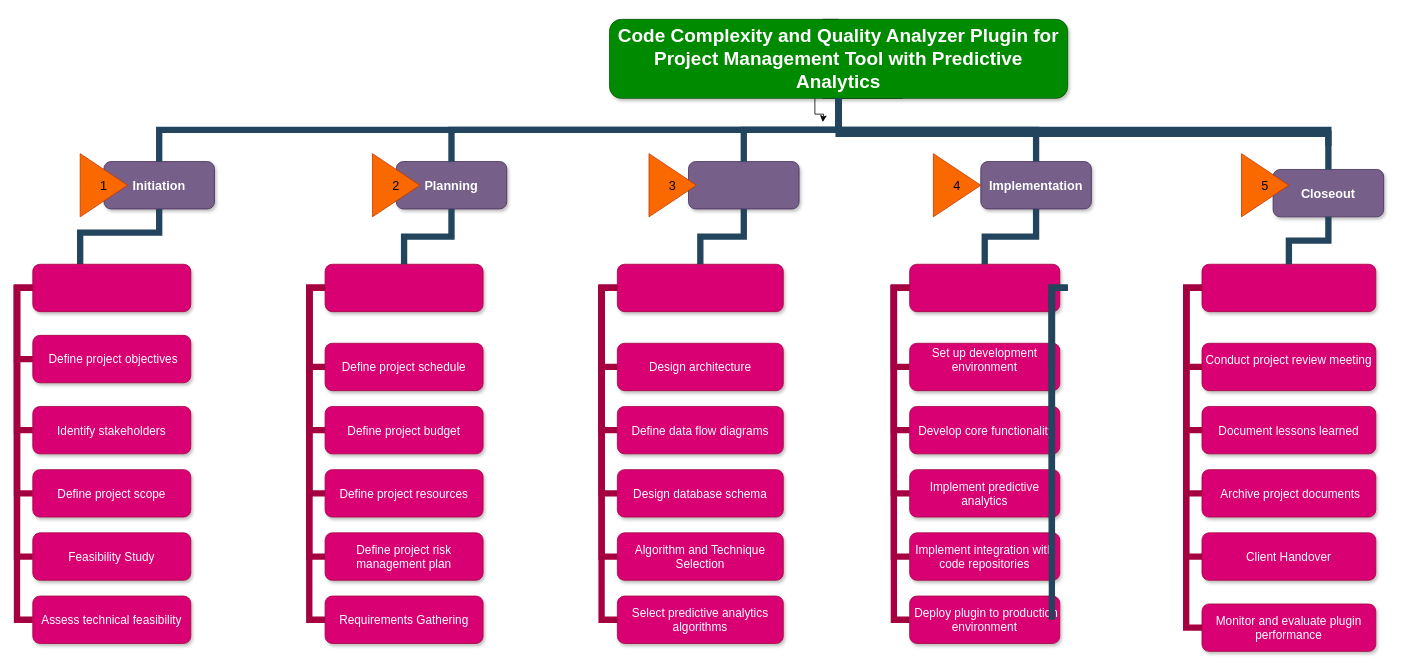
Some shapes in this 1402 by 671 pixel diagram are drawn without their labels. Here are the shapes that lost their labels. From the top down, the centre of each, then its label:
At (x=744, y=186): "Design".
At (x=112, y=288): "Project Charter Development".
At (x=404, y=288): "Project Plan Development".
At (x=700, y=288): "System Design".
At (x=985, y=288): "Development".
At (x=1289, y=288): "Project Review".
